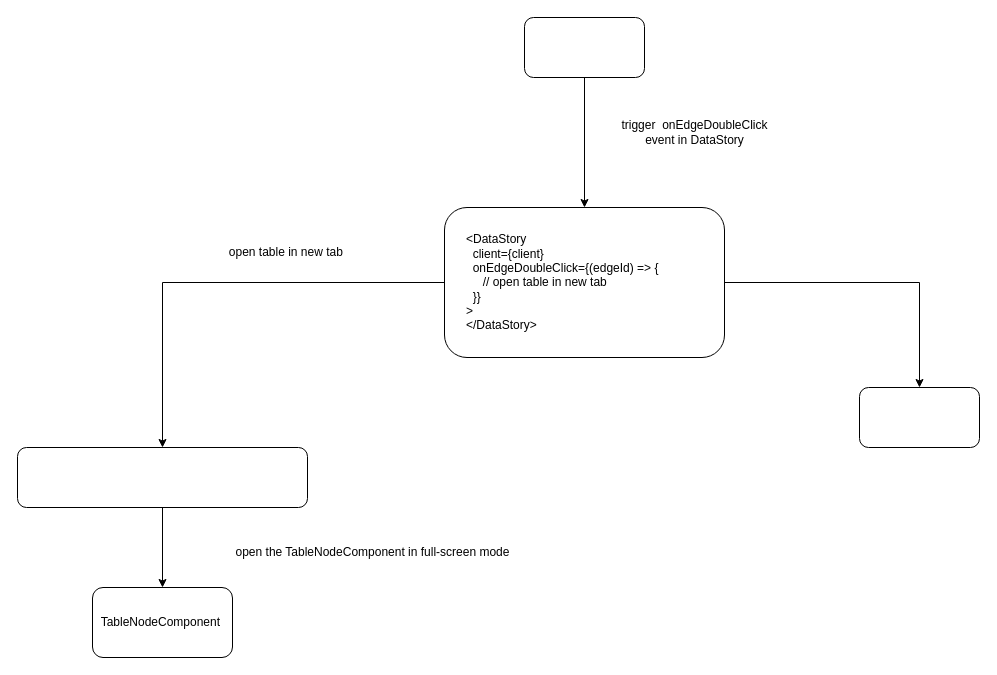
Some shapes in this 997 by 675 pixel diagram are drawn without their labels. Here are the shapes that lost their labels. From the top down, the centre of each, then its label:
At [584,47]: "double click edge".
At [162,477]: "datastory.dev/table/<edge.id>".
